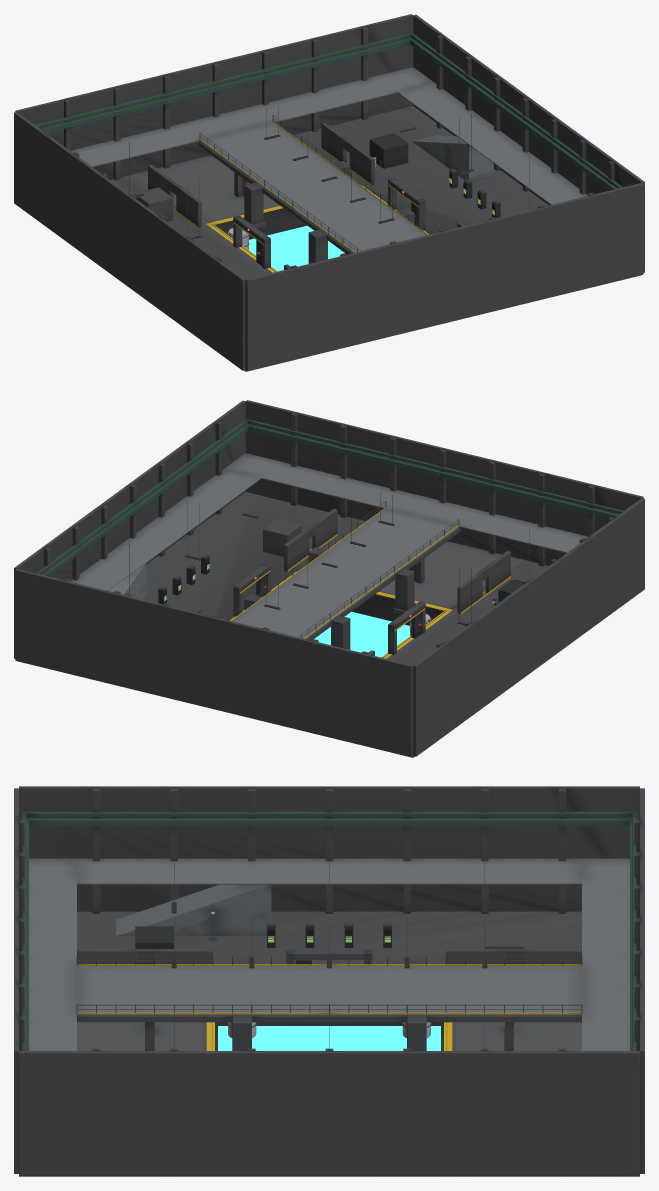
File: hd_facility.glb
3 renders of one model, top to bottom at view 1: azimuth 30°, elevation 25°; view 2: azimuth 150°, elevation 25°; view 3: azimuth 270°, elevation 25°, orthographic. The views are drawn at different scales.
Visible parts, largest first — view 1: Perimeter_Wall_South, Perimeter_Wall_West, Perimeter_Wall_North, Catwalk_Bridge_Deck, Ground_Floor_East, Perimeter_Wall_East, Catwalk_Perimeter_North, Wall_Pipes_NonCol, Catwalk_Perimeter_East, Ground_Floor_North, Ground_Floor_West, Catwalk_Ramp_East (+13 smaller); view 2: Perimeter_Wall_North, Perimeter_Wall_West, Perimeter_Wall_South, Ground_Floor_East, Catwalk_Bridge_Deck, Perimeter_Wall_East, Catwalk_Perimeter_South, Wall_Pipes_NonCol, Catwalk_Perimeter_East, Ground_Floor_South, Ground_Floor_West, Coolant_Liquid_Surface_Detail (+13 smaller); view 3: Perimeter_Wall_East, Perimeter_Wall_West, Catwalk_Bridge_Deck, Ground_Floor_West, Catwalk_Perimeter_West, Wall_Pipes_NonCol, Catwalk_Perimeter_South, Catwalk_Perimeter_North, Catwalk_Ramp_West, Coolant_Liquid_Surface_Detail, Ground_Floor_South, Ground_Floor_North (+23 smaller).
Boxes of the visible parts, x1,y1,x2,y2 form: Perimeter_Wall_South: (245,183,643,371); Perimeter_Wall_West: (14,112,245,370); Perimeter_Wall_North: (15,14,413,179); Catwalk_Bridge_Deck: (199,122,426,253); Ground_Floor_East: (293,106,640,304); Perimeter_Wall_East: (413,14,644,272); Catwalk_Perimeter_North: (71,67,434,167); Wall_Pipes_NonCol: (35,33,622,190); Catwalk_Perimeter_East: (397,83,587,204); Ground_Floor_North: (141,155,279,222); Ground_Floor_West: (110,172,368,371); Catwalk_Ramp_East: (412,135,493,182); Perimeter_Wall_North: (15,569,413,757); Perimeter_Wall_West: (413,498,644,756); Perimeter_Wall_South: (245,400,643,565); Ground_Floor_East: (18,492,365,690); Catwalk_Bridge_Deck: (232,508,459,639); Perimeter_Wall_East: (14,400,245,658); Catwalk_Perimeter_South: (224,453,587,553); Wall_Pipes_NonCol: (36,419,623,576); Catwalk_Perimeter_East: (71,469,261,590); Ground_Floor_South: (379,541,517,608); Ground_Floor_West: (290,558,548,757); Coolant_Liquid_Surface_Detail: (314,611,409,657); Perimeter_Wall_East: (19,1051,639,1175); Perimeter_Wall_West: (19,786,639,911); Catwalk_Bridge_Deck: (77,966,581,1015); Ground_Floor_West: (77,911,581,964); Catwalk_Perimeter_West: (77,858,581,884); Wall_Pipes_NonCol: (22,811,636,1050); Catwalk_Perimeter_South: (29,858,76,1050); Catwalk_Perimeter_North: (582,858,629,1050); Catwalk_Ramp_West: (116,884,271,935); Coolant_Liquid_Surface_Detail: (218,1026,440,1050); Ground_Floor_South: (77,1022,206,1050); Ground_Floor_North: (452,1022,581,1050).
Size of what is drawn, in the model's own units: 195 by 57.9 by 195.
